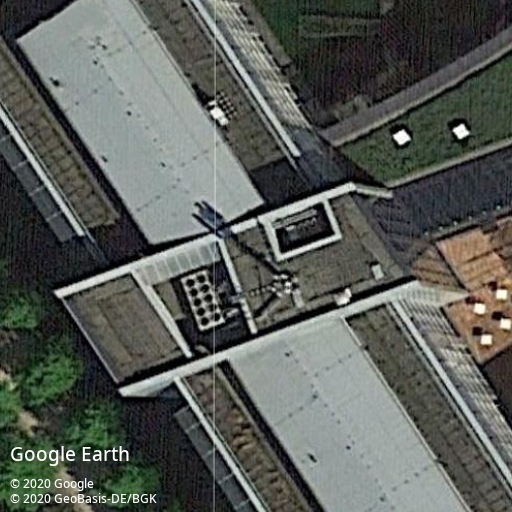Chiller: (180, 270, 224, 330)
